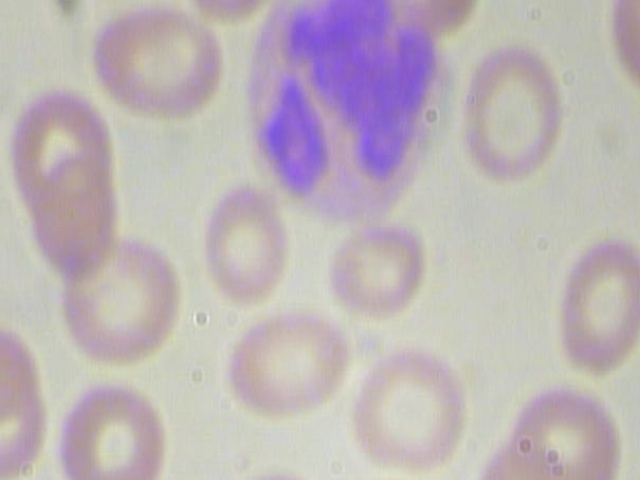RBC: (458, 32, 576, 193), (56, 230, 192, 364), (217, 296, 349, 428), (344, 344, 475, 475), (87, 7, 225, 119), (312, 214, 434, 323), (10, 86, 114, 212), (196, 173, 292, 307), (556, 231, 640, 384), (500, 381, 628, 480), (56, 377, 176, 480), (379, 0, 483, 36), (177, 0, 281, 31)
WBC: (233, 0, 454, 239)
